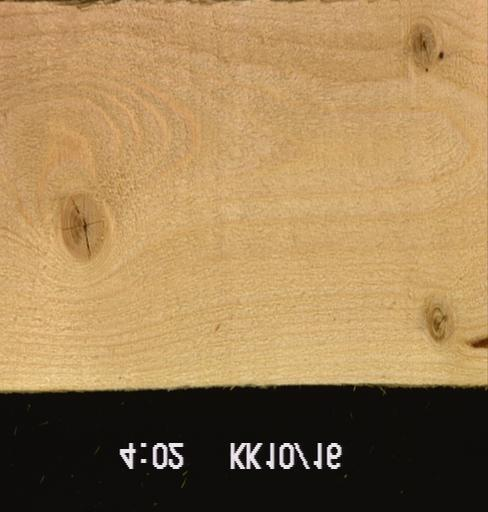sound_knot: (60, 193, 107, 264), (399, 21, 436, 71), (425, 304, 449, 344)
